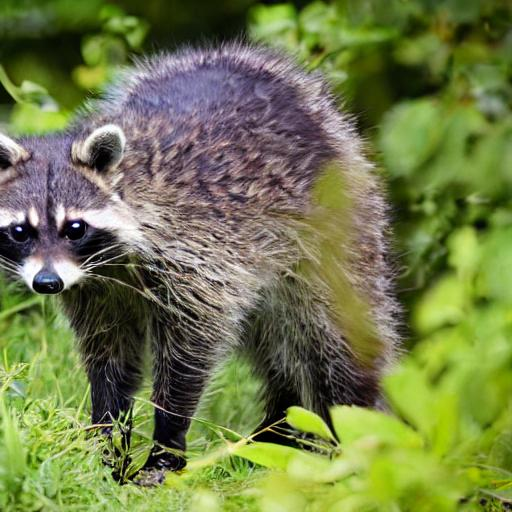raccoon: (0, 37, 411, 399)
